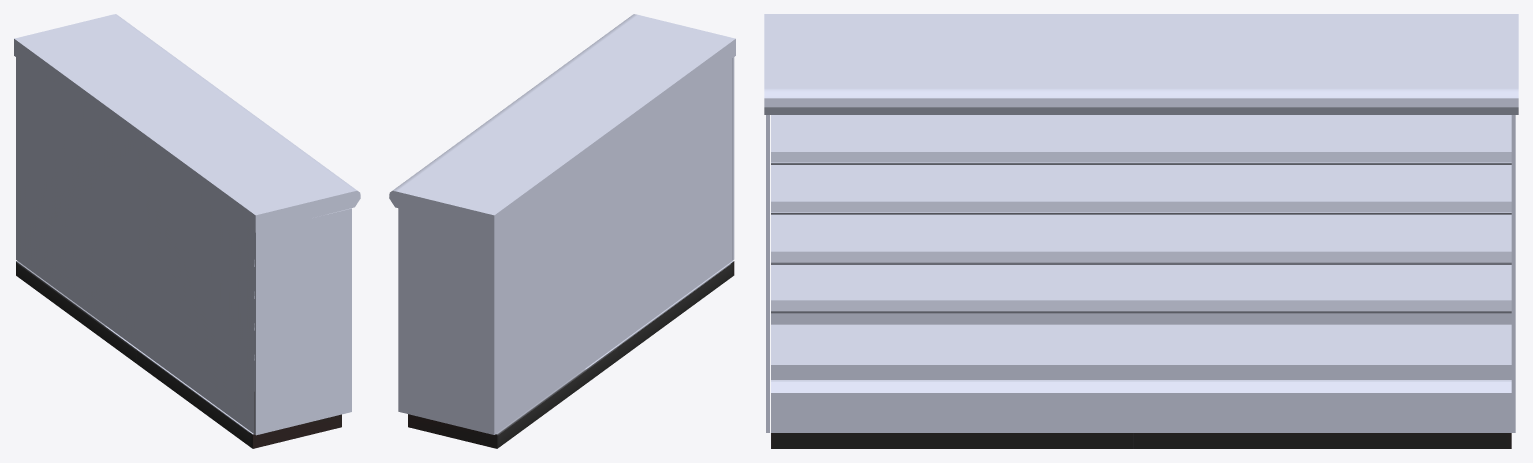
File: Chillar low poly.fbx
3 renders of one model, left to right at view 1: azimuth 30°, elevation 25°; view 2: azimuth 150°, elevation 25°; view 3: azimuth 270°, elevation 25°, orthographic. The views are drawn at different scales.
Parts seen in each view (by area): view 1: Chillar; view 2: Chillar; view 3: Chillar.
Part boxes in pixels (x1,y1,x2,y2): Chillar: (14, 14, 360, 448); Chillar: (389, 14, 735, 448); Chillar: (764, 14, 1518, 448).
Size of the model in its own units: 118 by 252 by 468.
1 material, 1 textured.
